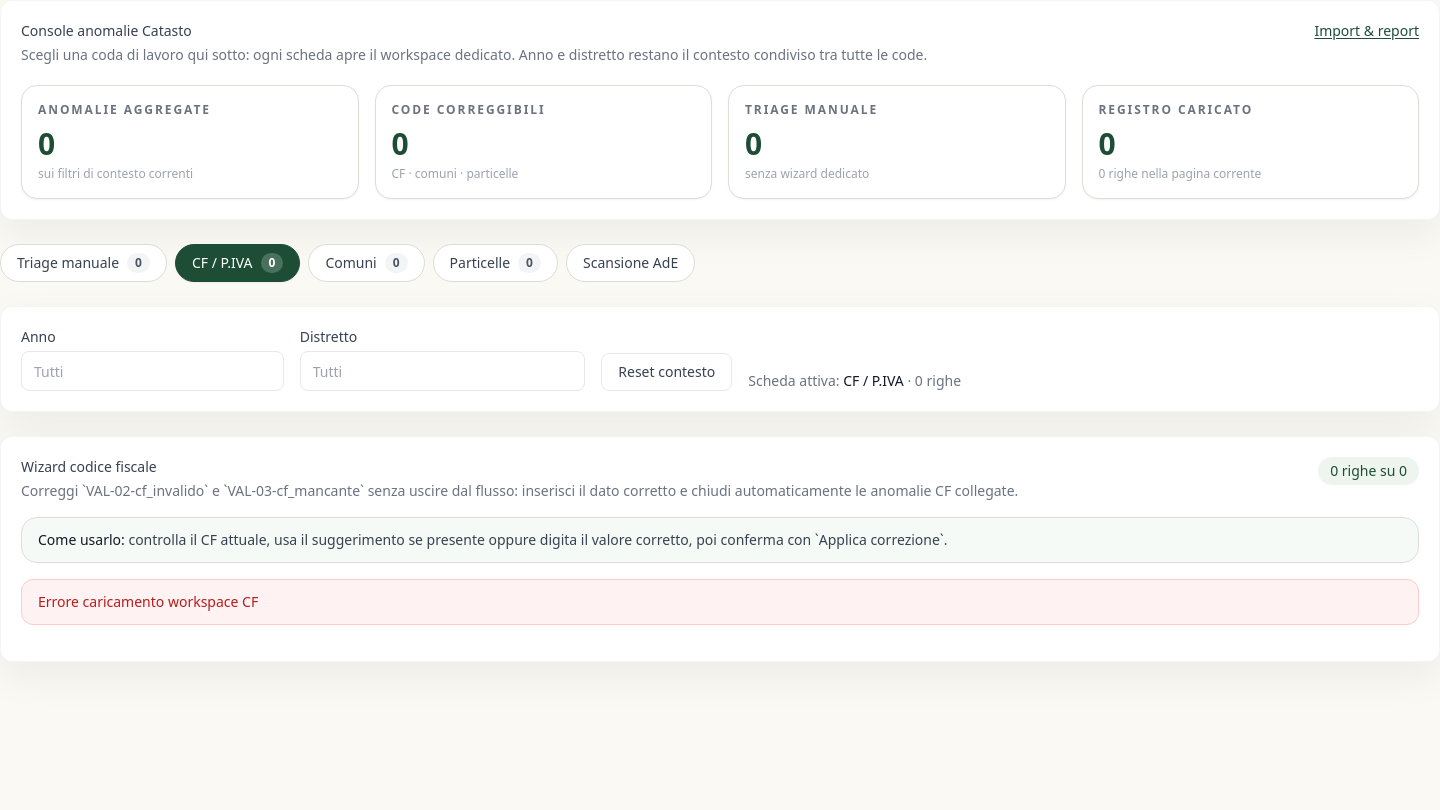
Test case: R17 original Catasto CF wizard public transitions › shows load failure offline, releases loading and clears it after a successful reload
Expected: the text "Errore caricamento workspace CF" is shown, left=21, top=579, right=1419, bottom=625
Type "8" into the field labelled "Distretto" at (442, 371), box left=300, top=351, right=585, bottom=391
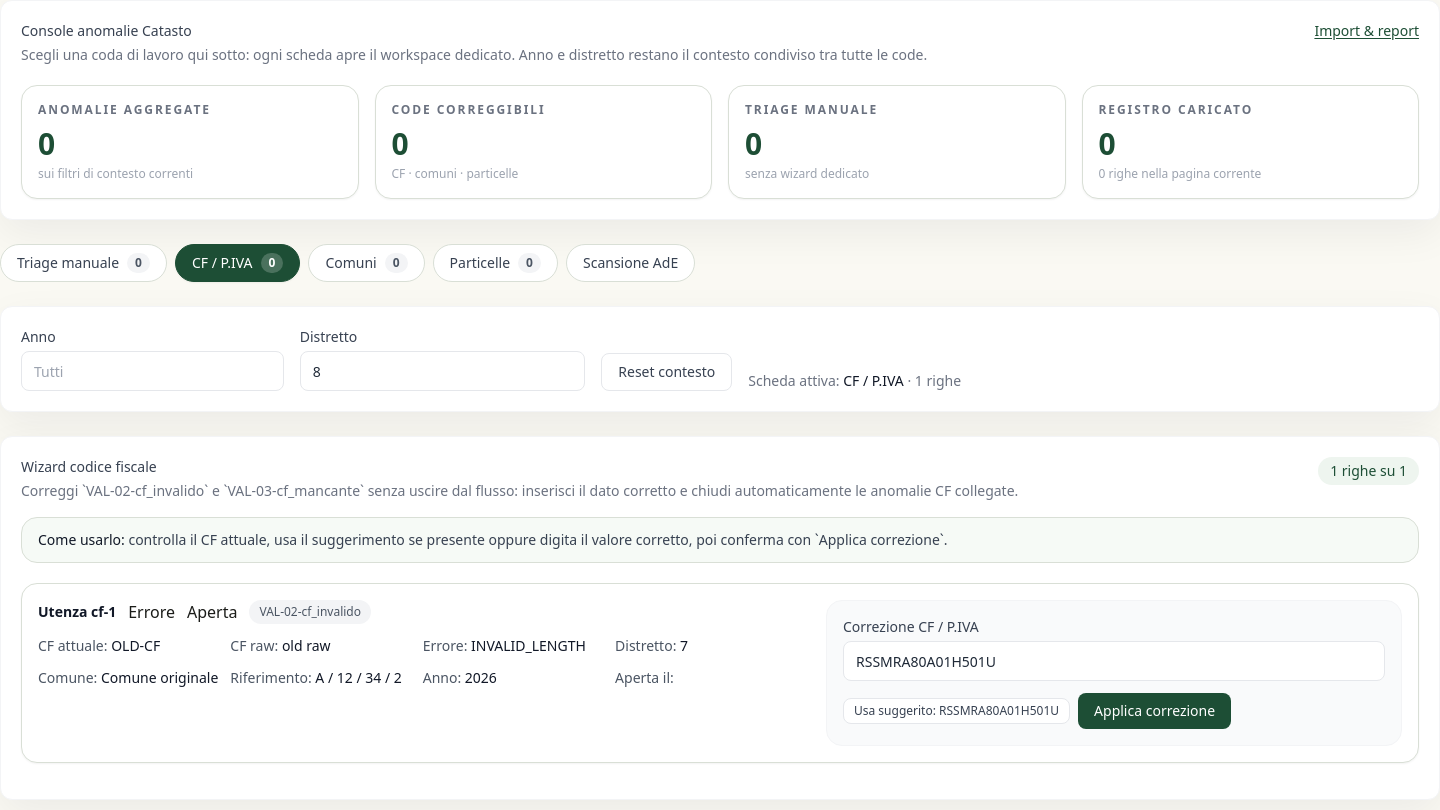
Result: the text "Utenza cf-1" is shown at left=38, top=602, right=116, bottom=622
Result: the text "Errore caricamento workspace CF" is gone
Result: the button "Applica correzione" is enabled at left=1078, top=693, right=1231, bottom=729
